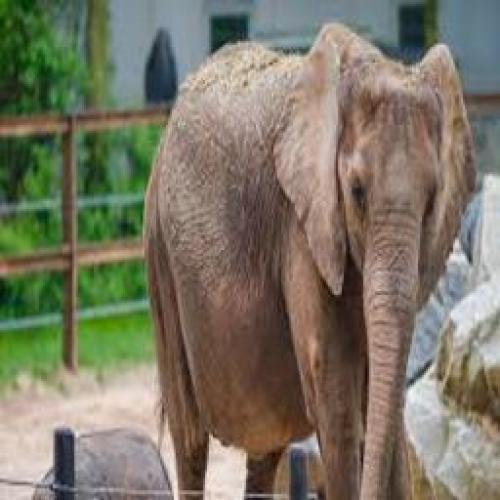african_elephant-endangered: (140, 25, 477, 494)
